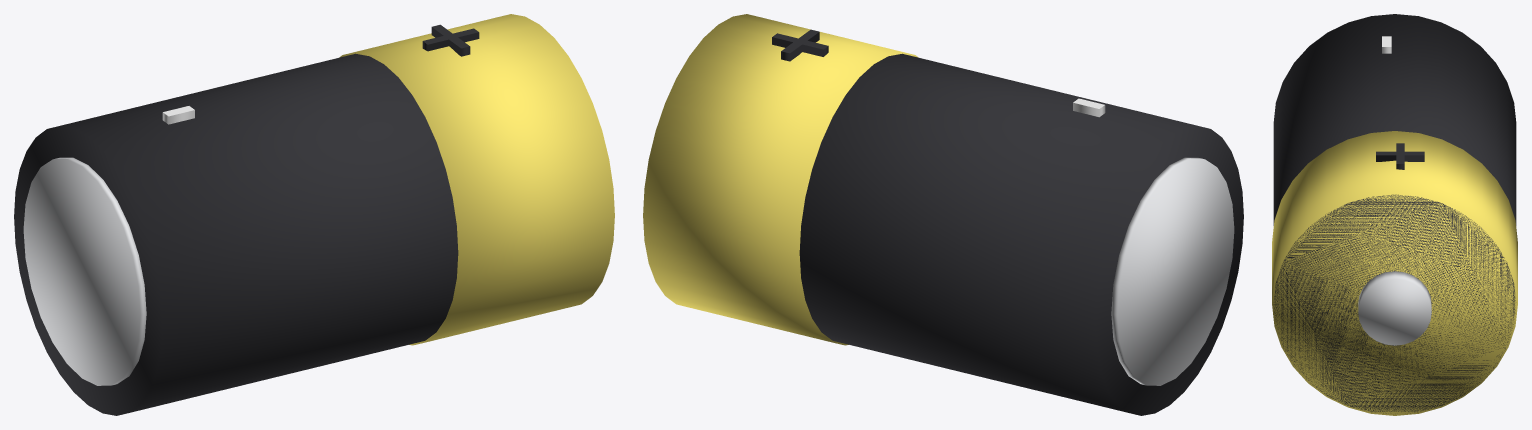
File: dry_cell.glb
3 renders of one model, left to right at view 1: azimuth 30°, elevation 25°; view 2: azimuth 150°, elevation 25°; view 3: azimuth 270°, elevation 25°, orthographic. The views are drawn at different scales.
Parts seen in each view (by area): view 1: cell_body, cell_band, cell_neg, cell_plus; view 2: cell_body, cell_band, cell_neg, cell_plus; view 3: cell_body, cell_band, cell_nub, cell_plus.
Part boxes in pixels (left/top/right/bottom): cell_body: left=14, top=53, right=458, bottom=415; cell_band: left=339, top=14, right=614, bottom=345; cell_neg: left=23, top=157, right=146, bottom=385; cell_plus: left=422, top=24, right=479, bottom=56; cell_body: left=799, top=53, right=1243, bottom=415; cell_band: left=643, top=14, right=918, bottom=345; cell_neg: left=1111, top=157, right=1234, bottom=385; cell_plus: left=772, top=29, right=828, bottom=61; cell_body: left=1273, top=14, right=1516, bottom=413; cell_band: left=1272, top=131, right=1517, bottom=415; cell_nub: left=1358, top=271, right=1431, bottom=345; cell_plus: left=1376, top=143, right=1424, bottom=169.
Bounding box in the file's own units: 0.0613 × 0.0342 × 0.0334.
